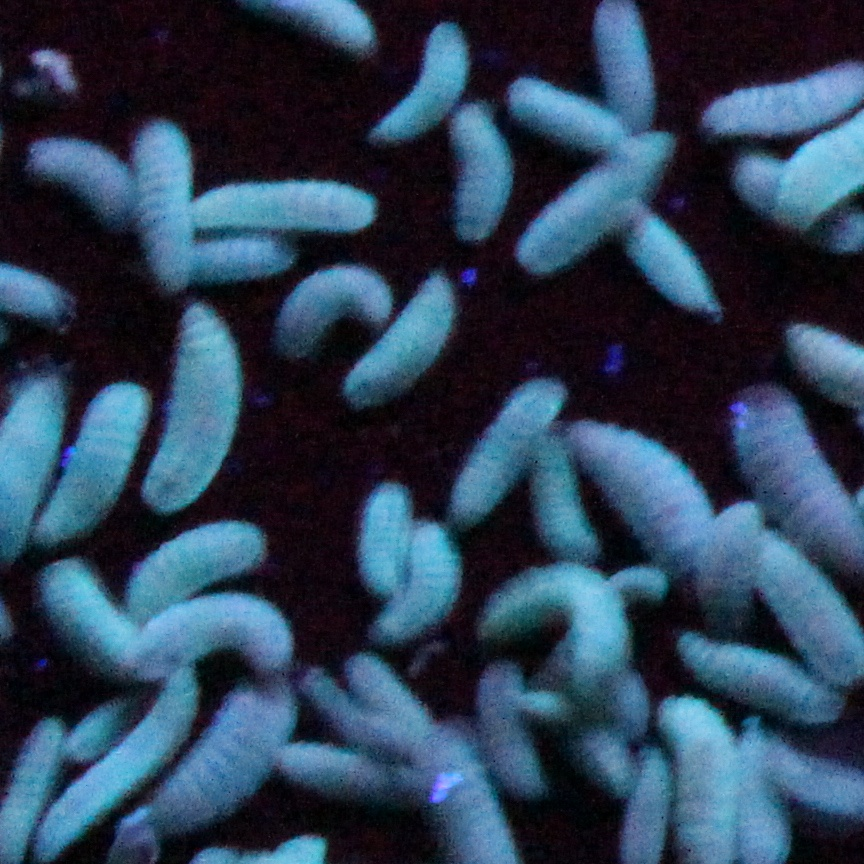larve: (29, 680, 195, 856), (518, 116, 690, 274), (148, 676, 295, 841), (562, 423, 713, 570), (148, 299, 248, 519), (37, 369, 148, 556), (671, 622, 851, 730), (475, 566, 632, 682), (452, 380, 565, 527), (132, 571, 305, 667), (346, 271, 449, 408), (184, 179, 388, 241), (374, 24, 470, 152), (37, 555, 139, 673), (16, 132, 139, 229), (125, 519, 258, 605), (127, 117, 191, 292), (619, 207, 721, 316), (438, 108, 514, 248), (340, 467, 414, 605), (278, 267, 394, 348), (504, 69, 620, 146), (286, 744, 408, 816), (53, 687, 147, 761), (404, 523, 459, 647), (188, 234, 299, 285)
